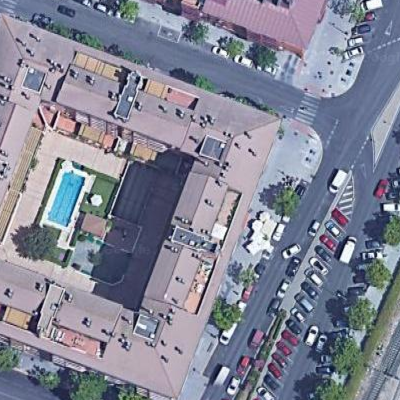tree: (14, 223, 67, 266), (342, 297, 383, 335), (209, 295, 247, 333), (332, 337, 368, 377), (361, 252, 392, 292), (66, 369, 106, 400), (272, 183, 304, 218), (252, 40, 279, 76), (31, 364, 63, 392), (181, 18, 208, 49), (378, 211, 400, 248), (1, 341, 23, 376), (314, 378, 348, 400), (117, 1, 144, 24), (190, 71, 216, 94), (225, 34, 244, 63)
